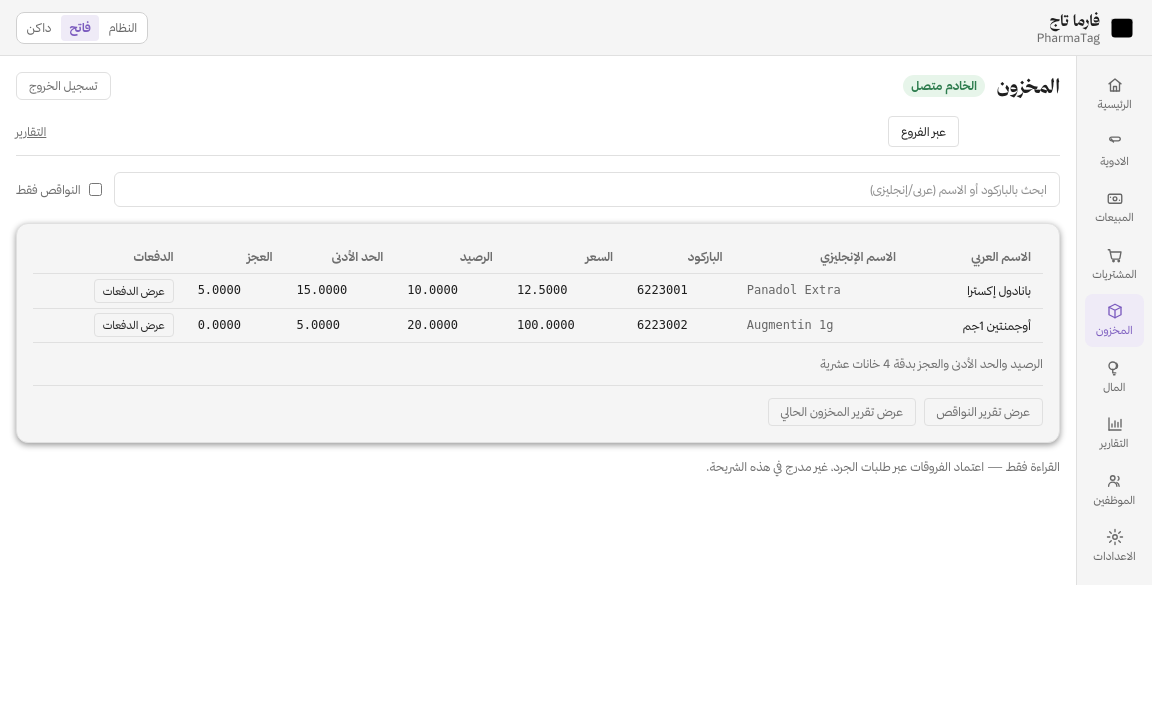
it: StockPage — wiring & edge cases › truncated flag shown when count > 1000
Click the button "عبر الفروع". click: (924, 132)
box: [888,116,959,147]
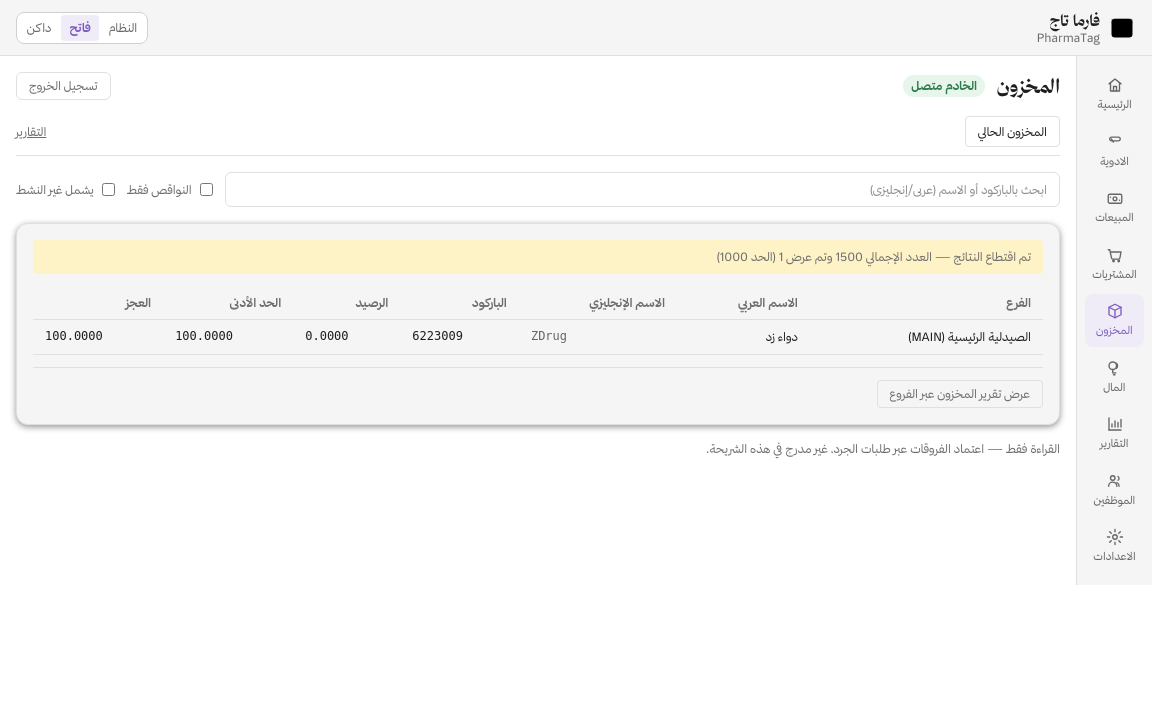
Result: the text "تم اقتطاع" is shown at [863,249,1031,264]
Result: the text "1500" is shown at [836,249,863,264]
